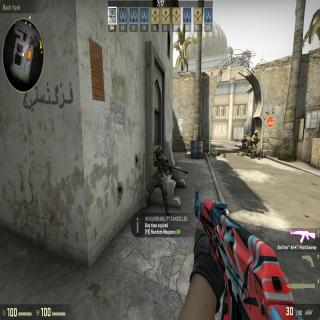CT-Body: (143, 144, 170, 217), (250, 129, 260, 158)
CT-Head: (154, 143, 164, 162), (254, 130, 258, 136)
